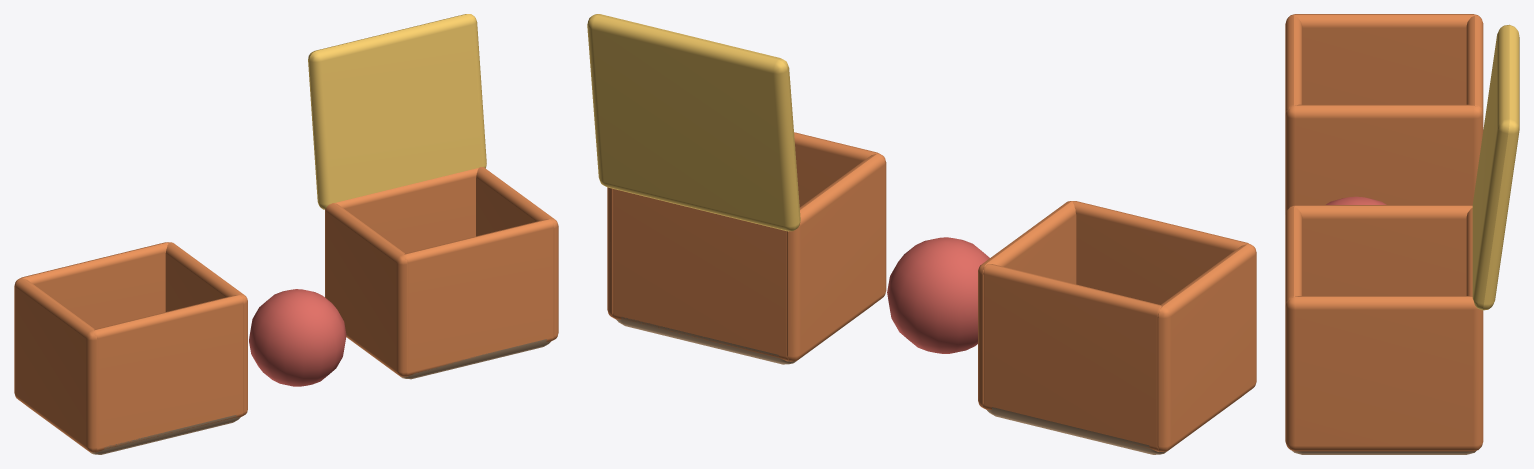
File: ava-position-between.glb
3 views of the same model, side by side, from view 1: azimuth 30°, elevation 25°; view 2: azimuth 150°, elevation 25°; view 3: azimuth 270°, elevation 25° (orthographic). The views are drawn at different scales.
Parts seen in each view (by area): view 1: box lid.001, box side.006, box side.010, box side.004, box side.008, box side.007, location ball, box side.011, box side.009, box side.005, box floor.001, box floor.002; view 2: box lid.001, box side.007, box side.011, box side.004, box side.008, box side.006, location ball, box side.005, box side.010, box floor.001, box floor.002, box side.009; view 3: box side.009, box side.005, box side.004, box side.008, box lid.001, box side.006, box side.007, box side.010, box floor.002, box side.011, location ball.
Boxes of the visible parts, left/top/right/bottom form: box lid.001: left=308, top=14, right=486, bottom=209; box side.006: left=94, top=295, right=243, bottom=452; box side.010: left=404, top=219, right=554, bottom=376; box side.004: left=14, top=278, right=97, bottom=452; box side.008: left=325, top=203, right=407, bottom=376; box side.007: left=21, top=242, right=168, bottom=329; location ball: left=249, top=289, right=346, bottom=386; box side.011: left=335, top=168, right=478, bottom=253; box side.009: left=476, top=167, right=558, bottom=339; box side.005: left=165, top=242, right=247, bottom=416; box floor.001: left=28, top=407, right=240, bottom=454; box floor.002: left=346, top=337, right=550, bottom=379; box lid.001: left=587, top=14, right=800, bottom=231; box side.007: left=983, top=264, right=1161, bottom=451; box side.011: left=612, top=189, right=790, bottom=361; box side.004: left=1157, top=244, right=1256, bottom=451; box side.008: left=787, top=153, right=886, bottom=361; box side.006: left=1073, top=201, right=1248, bottom=304; location ball: left=887, top=237, right=989, bottom=353; box side.005: left=978, top=201, right=1076, bottom=408; box side.010: left=794, top=132, right=878, bottom=207; box floor.001: left=987, top=395, right=1243, bottom=454; box floor.002: left=616, top=305, right=872, bottom=364; box side.009: left=607, top=187, right=613, bottom=317; box side.009: left=1285, top=296, right=1483, bottom=451; box side.005: left=1285, top=104, right=1483, bottom=214; box side.004: left=1287, top=14, right=1481, bottom=104; box side.008: left=1288, top=205, right=1472, bottom=295; box lid.001: left=1472, top=24, right=1519, bottom=310; box side.006: left=1285, top=15, right=1302, bottom=114; box side.007: left=1466, top=16, right=1483, bottom=113; box side.010: left=1285, top=207, right=1302, bottom=305; box floor.002: left=1292, top=450, right=1476, bottom=454; box side.011: left=1466, top=208, right=1472, bottom=296; location ball: left=1326, top=196, right=1386, bottom=204.
Bounding box in the file's own units: 2.45 × 1.33 × 0.8279.
